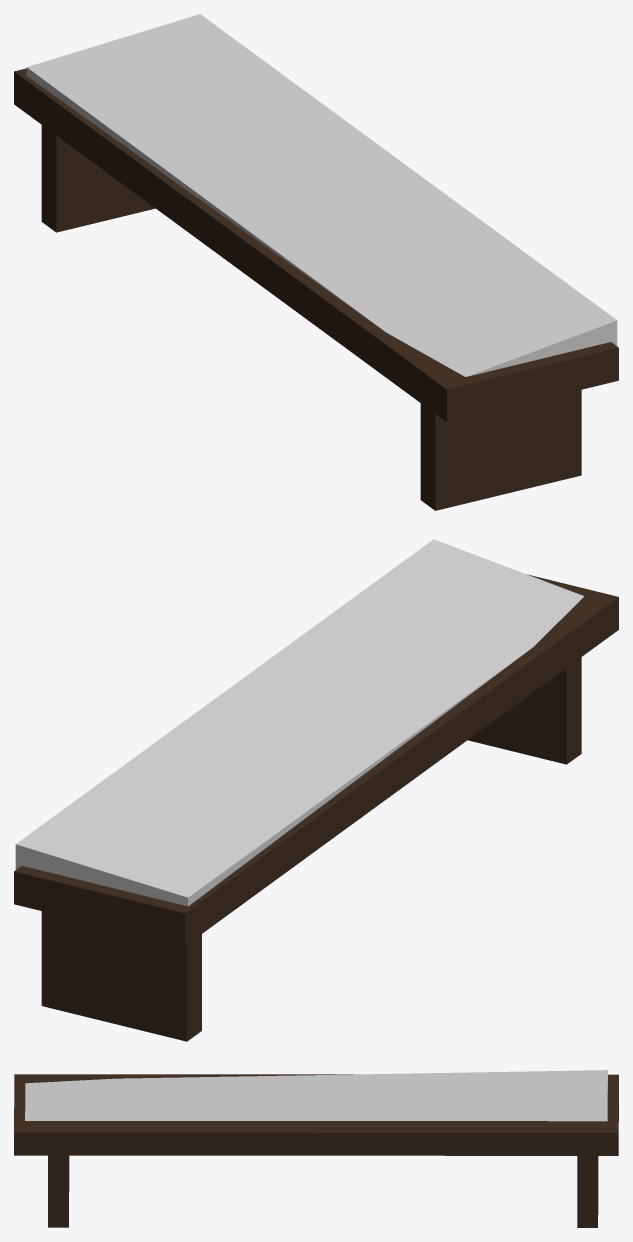
File: bench_1_snow_mat.fbx
3 views of the same model, one above another, from view 1: azimuth 30°, elevation 25°; view 2: azimuth 150°, elevation 25°; view 3: azimuth 270°, elevation 25° (orthographic). The views are drawn at different scales.
Parts seen in each view (by area): view 1: bench_1_snow_mat; view 2: bench_1_snow_mat; view 3: bench_1_snow_mat.
Part boxes in pixels (box(x1,y1,x2,y2)): bench_1_snow_mat: box(14, 14, 618, 510); bench_1_snow_mat: box(14, 539, 618, 1041); bench_1_snow_mat: box(14, 1070, 618, 1227).
Size of the model in its own units: 23.84 by 20.66 by 100.
